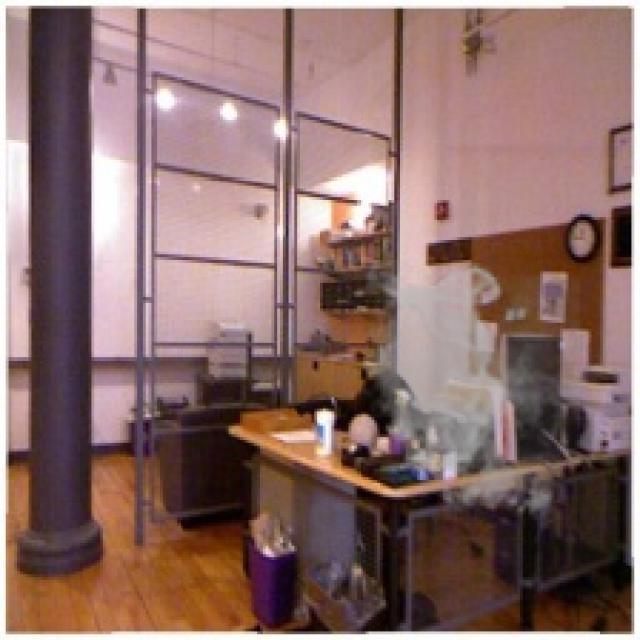Smoke: (354, 260, 580, 523)
